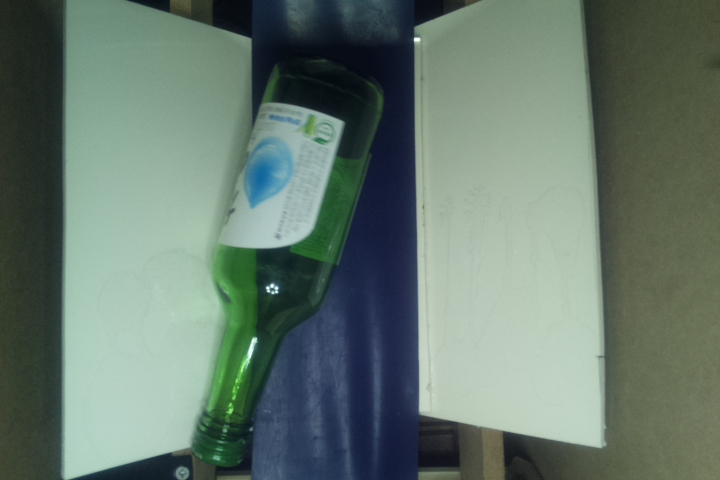soju: (188, 52, 386, 470)
